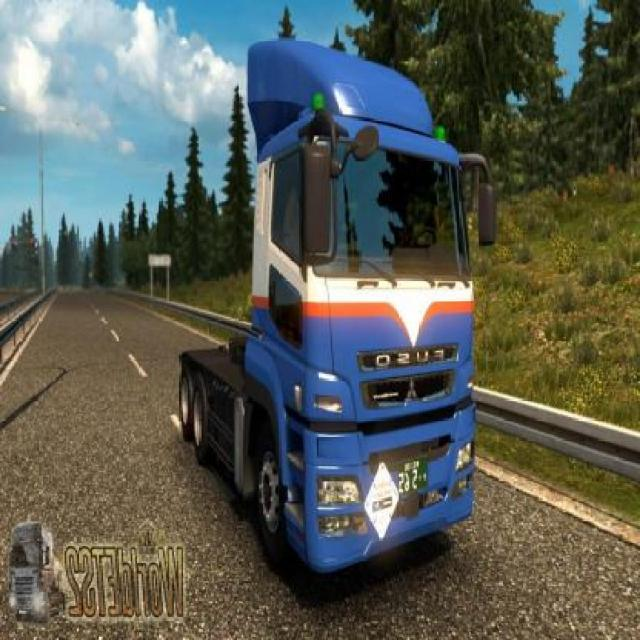truck: (179, 39, 492, 582)
